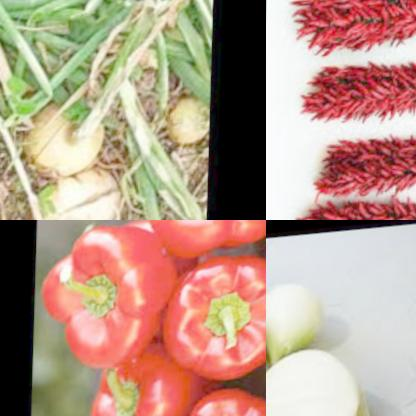bell pepper: (35, 220, 170, 378), (156, 250, 266, 393), (89, 343, 218, 416), (149, 220, 266, 262)
hot pepper: (302, 52, 416, 135), (300, 128, 416, 206), (286, 0, 416, 62), (287, 195, 416, 220)
onion: (9, 79, 117, 191), (266, 346, 377, 416), (31, 166, 140, 220), (266, 280, 331, 369)
